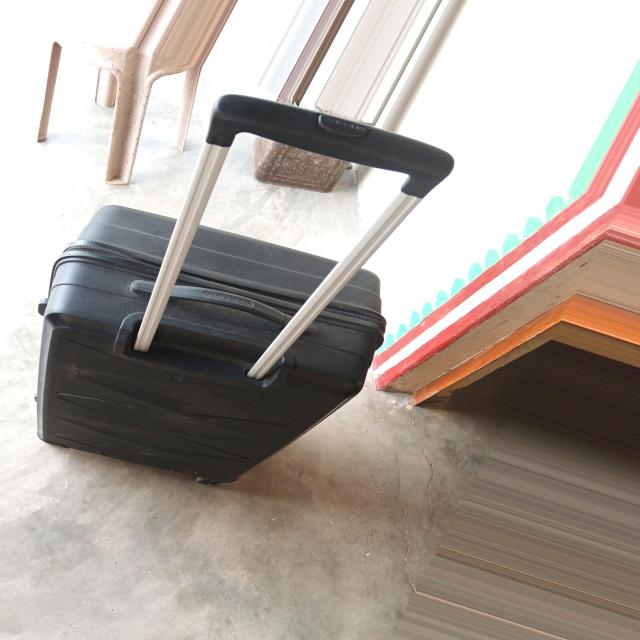Bag: (25, 71, 470, 502)
Handle: (122, 79, 462, 378)
